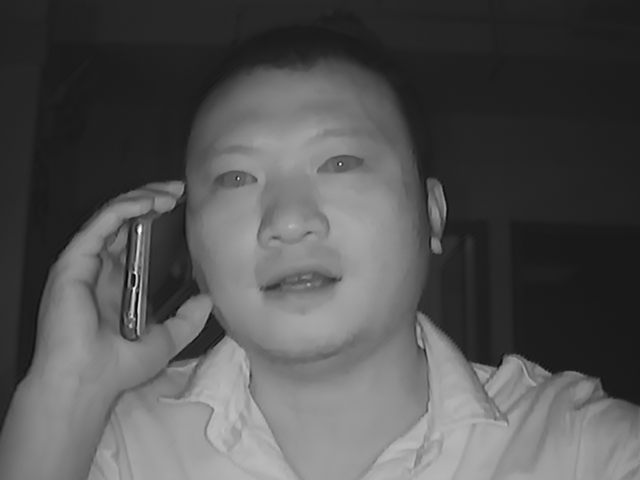hand: (35, 177, 188, 386)
